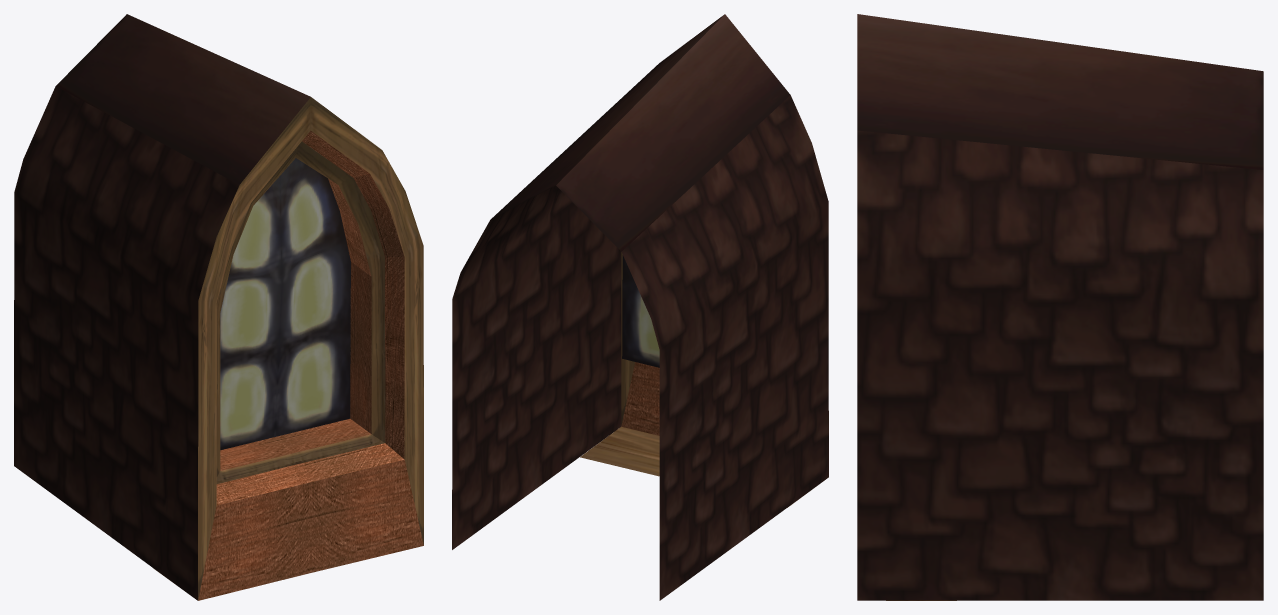
The model's file is fanasty_mod_roof_window04.fbx.
3 renders of one model, left to right at view 1: azimuth 30°, elevation 25°; view 2: azimuth 150°, elevation 25°; view 3: azimuth 270°, elevation 25°, orthographic. The views are drawn at different scales.
Visible parts, largest first — view 1: roof_window_04; view 2: roof_window_04; view 3: roof_window_04.
Boxes of the visible parts, x1=… form: roof_window_04: x1=14, y1=14, x2=423, y2=600; roof_window_04: x1=452, y1=14, x2=828, y2=600; roof_window_04: x1=857, y1=14, x2=1263, y2=600.
Bounding box in the file's own units: 0.93 × 1.88 × 1.31.
